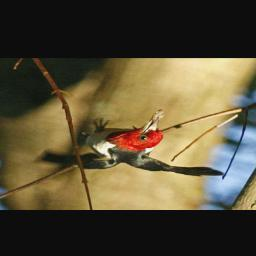Woodpecker: (37, 108, 234, 183)
